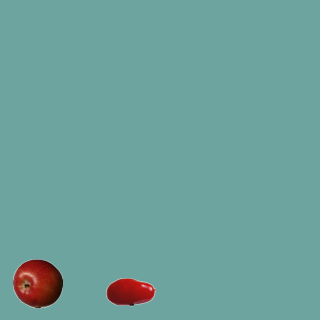Apple Braeburn: (12, 258, 62, 308)
Tomato 2: (105, 266, 155, 316)
